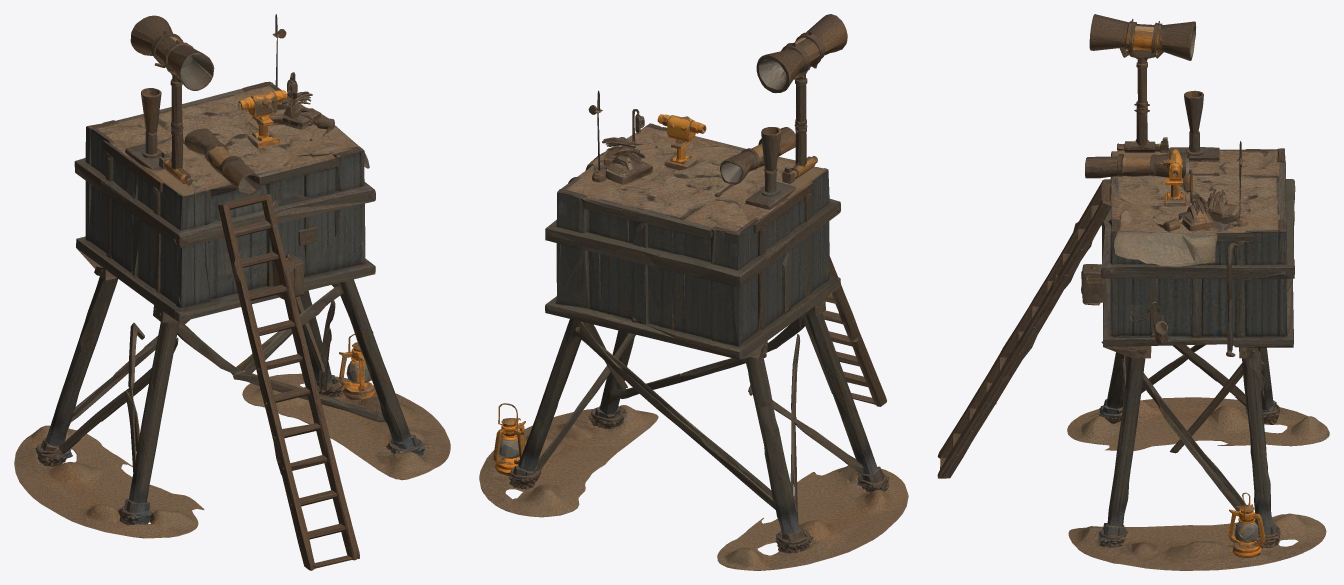
The model's file is tour_kenji.glb.
3 views of the same model, side by side, from view 1: azimuth 30°, elevation 25°; view 2: azimuth 150°, elevation 25°; view 3: azimuth 270°, elevation 25° (orthographic). The views are drawn at different scales.
Size of the model in its own units: 1.65 by 1.9 by 1.58.
Materials: 1 (1 with a texture image).
